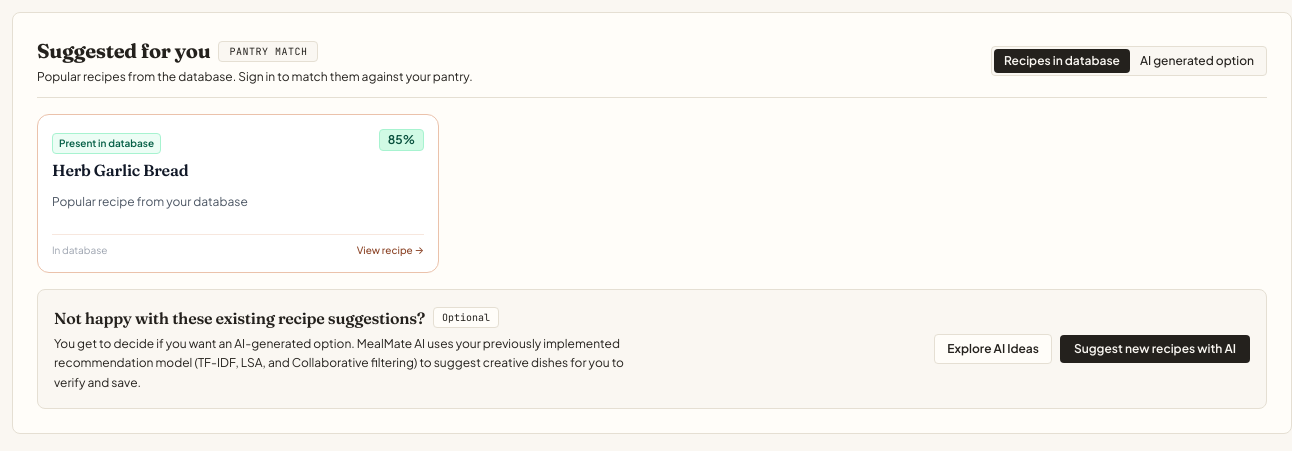
Test: SuggestedRecipes & HomePage suggestions flow › sends guests to sign in when they try to generate recipes with AI
Click the button "Suggest new recipes with AI".
click(1155, 349)  # box x1=1060 y1=335 x2=1250 y2=363
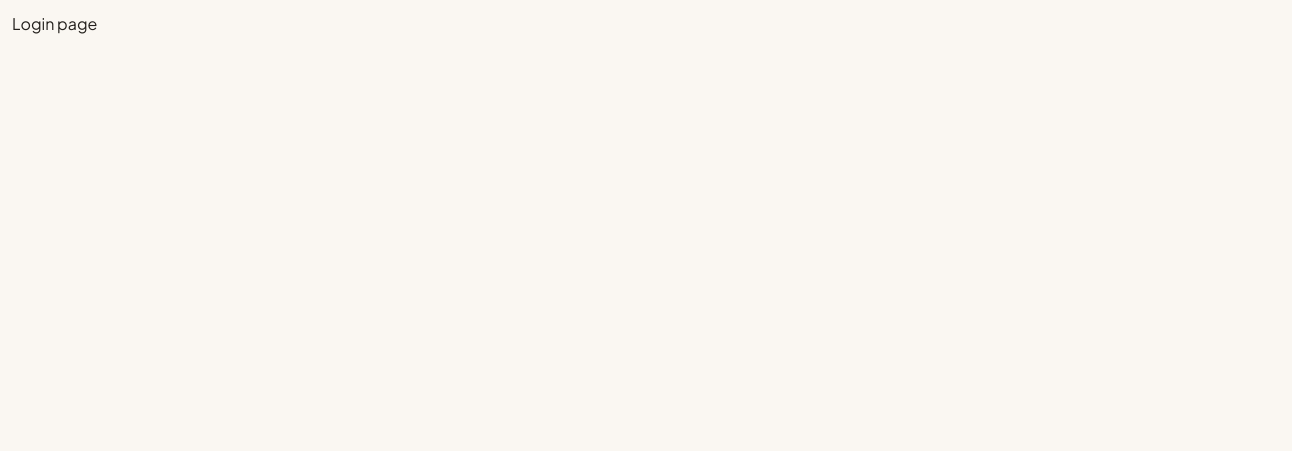
Check: the text "Login page" is shown, box x1=12 y1=13 x2=97 y2=34
